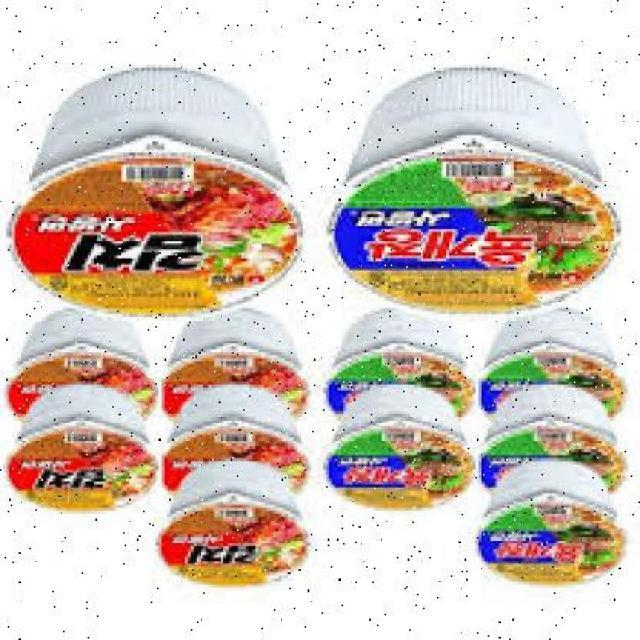Miscellaneous: (324, 66, 624, 320), (1, 74, 302, 314), (141, 473, 310, 592), (2, 310, 166, 428), (0, 406, 154, 528), (462, 307, 624, 421), (146, 388, 320, 494), (315, 409, 477, 517), (321, 310, 474, 424), (157, 307, 306, 424), (472, 390, 623, 493), (480, 480, 618, 591)
